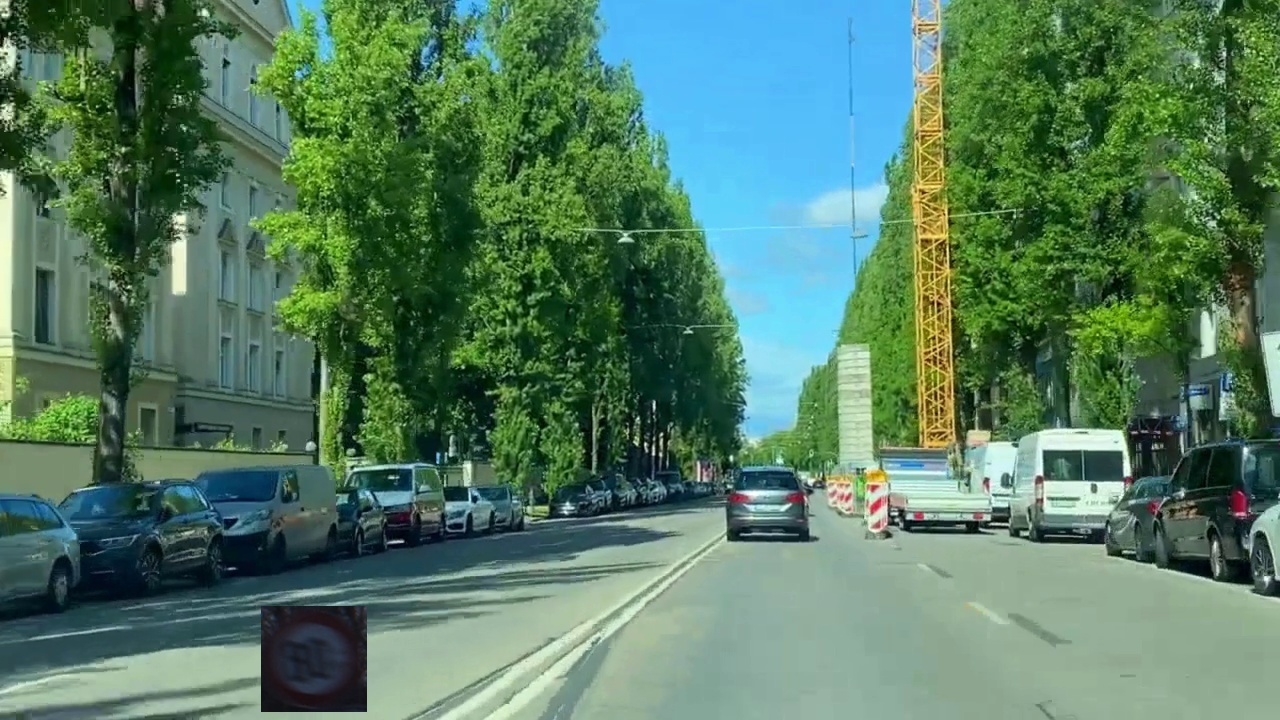Speed 80: (261, 606, 367, 712)
